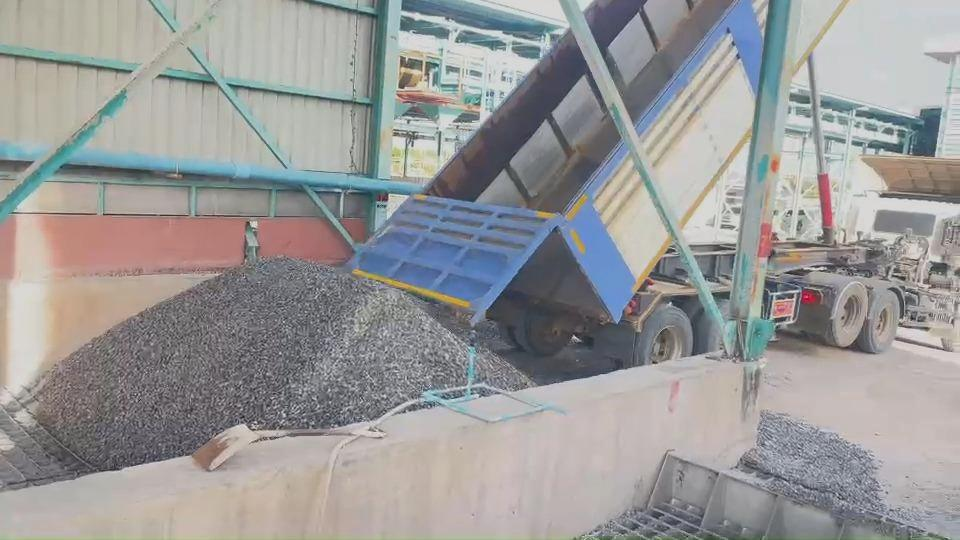gravel: (32, 258, 466, 469), (738, 411, 889, 516), (476, 348, 531, 389)
